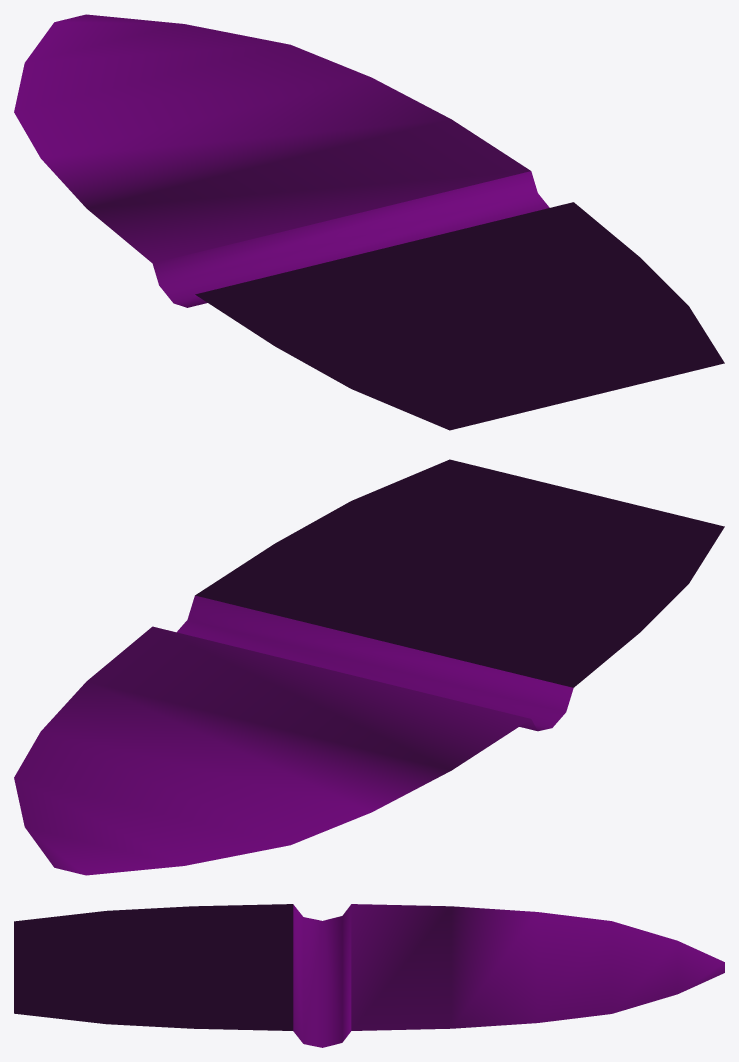
File: 58220_watermasker.fbx
The picture shows the model from 3 angles, top to bottom: view 1: azimuth 30°, elevation 25°; view 2: azimuth 150°, elevation 25°; view 3: azimuth 270°, elevation 25°; orthographic projection. The views are drawn at different scales.
Visible parts, largest first — view 1: 58220_watermasker; view 2: 58220_watermasker; view 3: 58220_watermasker.
Boxes of the visible parts, <box> form: 58220_watermasker: <box>14,14,724,430</box>; 58220_watermasker: <box>14,459,724,875</box>; 58220_watermasker: <box>14,904,724,1047</box>.
Bounding box in the file's own units: 446 × 27.66 × 1055.
